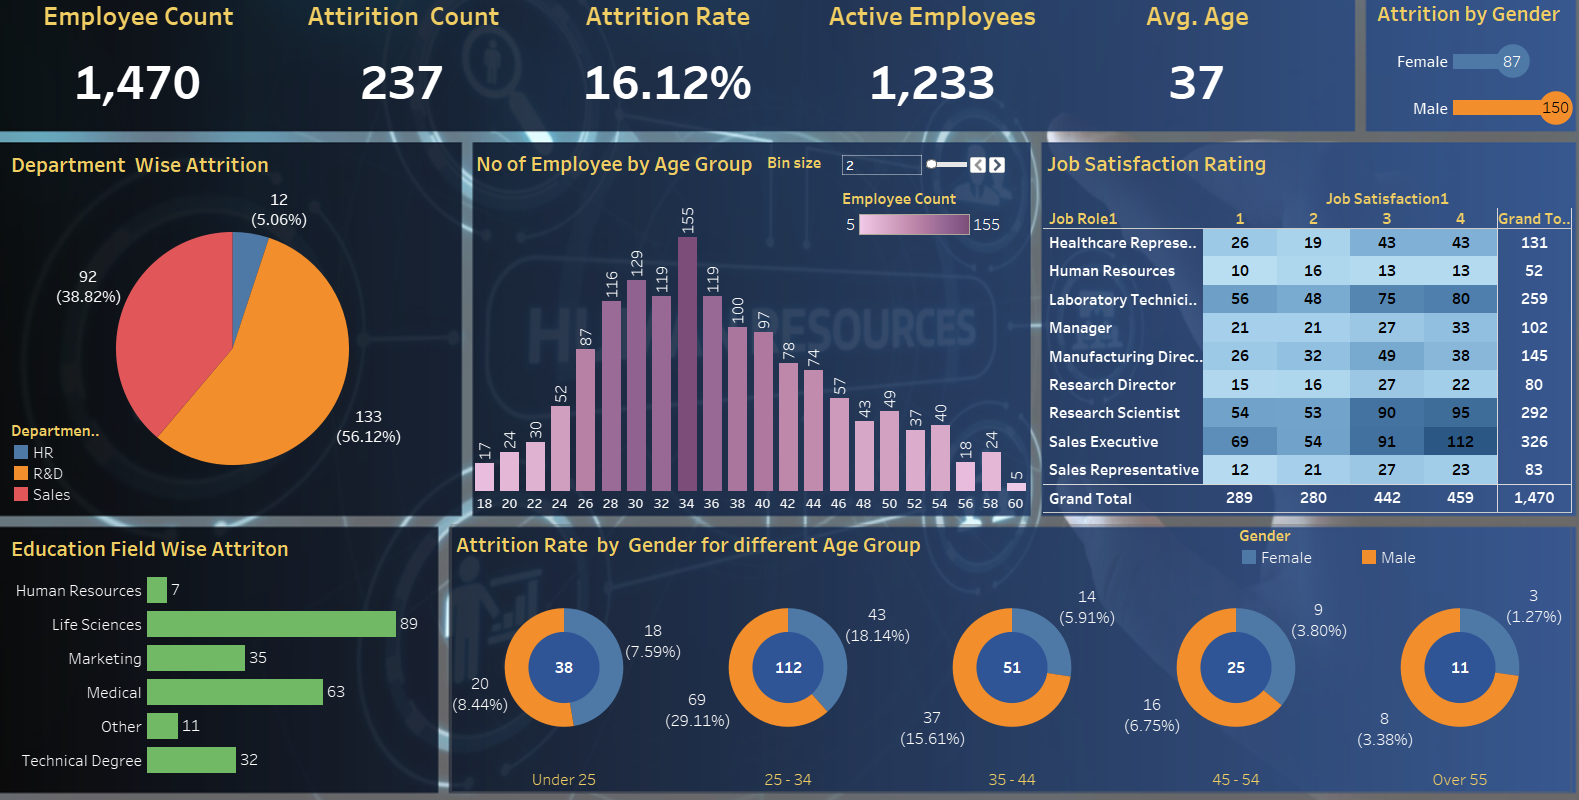

The dashboard page shown, as its layout file describes it:
{"tool":"tableau","page":{"name":"Dashboard 1","canvas":[1580,900],"ordinal":0},"visuals":[{"type":"image","param":"Image/HR background.pptx (1).png","box":[8,8,1564,884]},{"type":"text","box":[18,13,903,69]},{"type":"filter","title":"Department  Wise Attrition","param":"[federated.1cxsrzn1ro2lkb15gqy300e3v4ud].[none:Education:nk]","box":[1061,21,160,61]},{"type":"worksheet","title":"KPI","mark":"Automatic","box":[18,91,1324,136]},{"type":"worksheet","title":"No of Employee by Age Group","mark":"Automatic","rows":["Employee Count"],"cols":["Age (bin)"],"box":[484,244,557,368]},{"type":"worksheet","title":"Job Satisfaction Rating","mark":"Square","rows":["Job Role"],"cols":["Job Satisfaction"],"box":[1055,244,529,368]},{"type":"worksheet","title":"Department  Wise Attrition","mark":"Pie","box":[19,245,451,362]},{"type":"parameter","param":"[Parameters].[Parameter 1]","box":[779,251,241,27]},{"type":"legend","title":"No of Employee by Age Group","param":"[federated.1cxsrzn1ro2lkb15gqy300e3v4ud].[sum:Employee Count:qk]","box":[854,287,163,57]},{"type":"legend","title":"Department  Wise Attrition","param":"[federated.1cxsrzn1ro2lkb15gqy300e3v4ud].[none:Department:nk]","box":[23,519,90,85]},{"type":"legend","title":"Attrition Rate  by  Gender for different Age Group","param":"[federated.1cxsrzn1ro2lkb15gqy300e3v4ud].[none:Gender:nk]","box":[1251,624,243,54]},{"type":"worksheet","title":"Attrition Rate  by  Gender for different Age Group","mark":"Pie","rows":["Calculation_1422293085078757377","Calculation_1422293085078757377"],"cols":["CF_age band"],"box":[464,625,1120,265]},{"type":"worksheet","title":"Education Field Wise Attriton","mark":"Automatic","rows":["Education Field"],"cols":["Calculation_1335598792025010176"],"box":[19,629,428,258]}]}

Visuals, with their boxes on the page's 1580x900 design canvas (x1, y1, x2, y2). These are canvas units, not pixel positions in the 1579x800 screenshot, which may show the page scaled, cropped or inside an application window:
image: BBox(8, 8, 1572, 892)
text: BBox(18, 13, 921, 82)
"Department  Wise Attrition" filter: BBox(1061, 21, 1221, 82)
"KPI" worksheet: BBox(18, 91, 1342, 227)
"No of Employee by Age Group" worksheet: BBox(484, 244, 1041, 612)
"Job Satisfaction Rating" worksheet (Square marks): BBox(1055, 244, 1584, 612)
"Department  Wise Attrition" worksheet (Pie marks): BBox(19, 245, 470, 607)
parameter: BBox(779, 251, 1020, 278)
"No of Employee by Age Group" legend: BBox(854, 287, 1017, 344)
"Department  Wise Attrition" legend: BBox(23, 519, 113, 604)
"Attrition Rate  by  Gender for different Age Group" legend: BBox(1251, 624, 1494, 678)
"Attrition Rate  by  Gender for different Age Group" worksheet (Pie marks): BBox(464, 625, 1584, 890)
"Education Field Wise Attriton" worksheet: BBox(19, 629, 447, 887)
